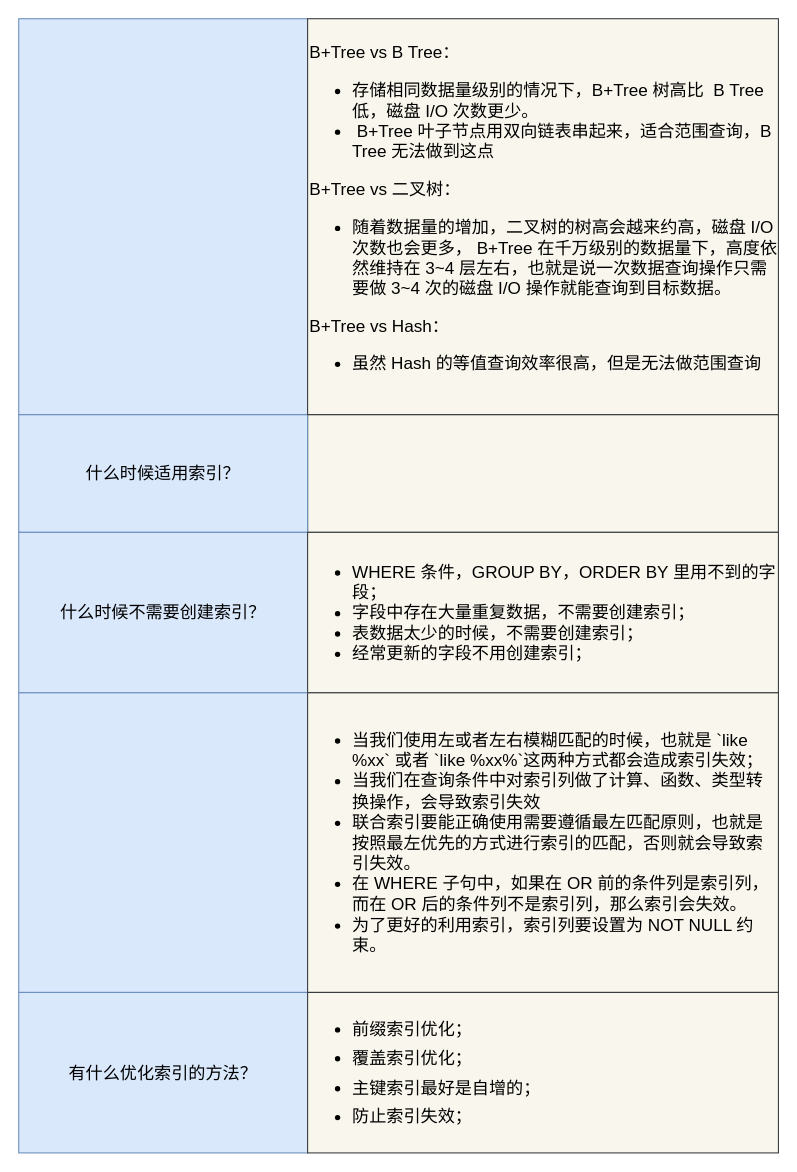
The diagram is 797 pixels wide and 1172 high, and some of its shapes have lost their labels. The shapes that lost their labels are listed below. From the top down, each one's box as (x1, y1, x2, y2) in pixels, then its label:
(18, 18, 308, 415): 为什么 MySQL InnoDB 选择 B+tree 作为索引的数据结构？
(307, 414, 778, 532): 字段有唯一性限制的，比如商品编码； 经常用于 WHERE 查询条件的字段； 经常用于 GROUP BY 和 ORDER BY 的字段；
(18, 692, 308, 992): 什么时候索引会失效？
